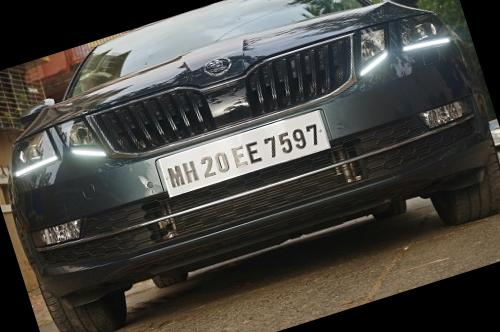plate: (132, 85, 353, 229)
